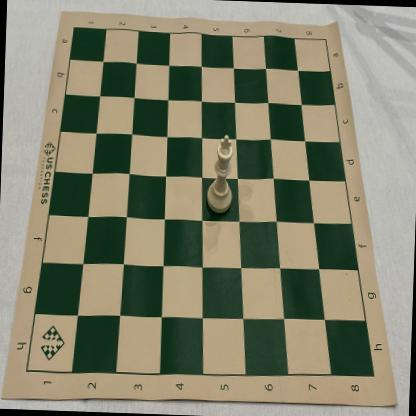white-king: (206, 134, 234, 215)
